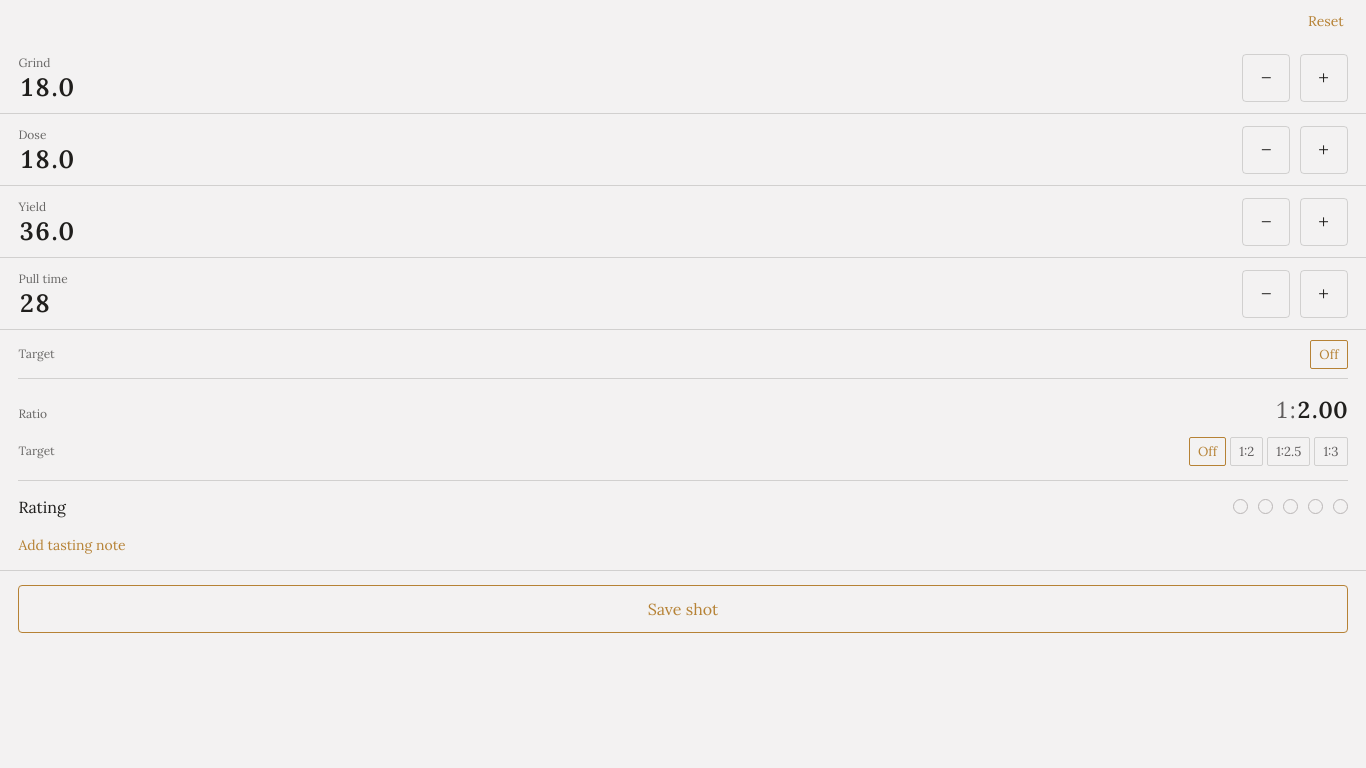
ShotForm › shows a signed delta and accent colour once a value is nudged away from the reference
Step 1. Click the button named "Increase dose" → point(1324, 150), box [1300,126,1348,174]
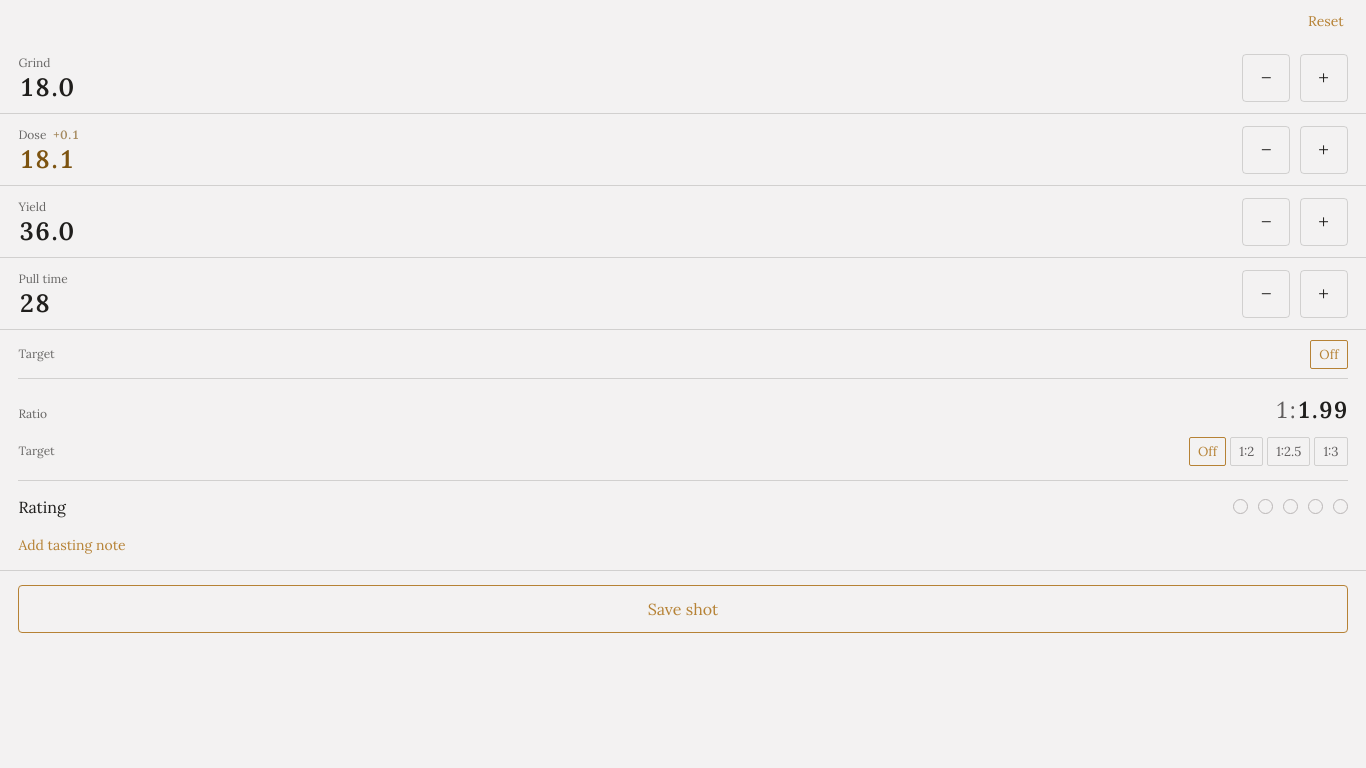
Expected: the text "+0.1" is shown, [52,127,79,142]
